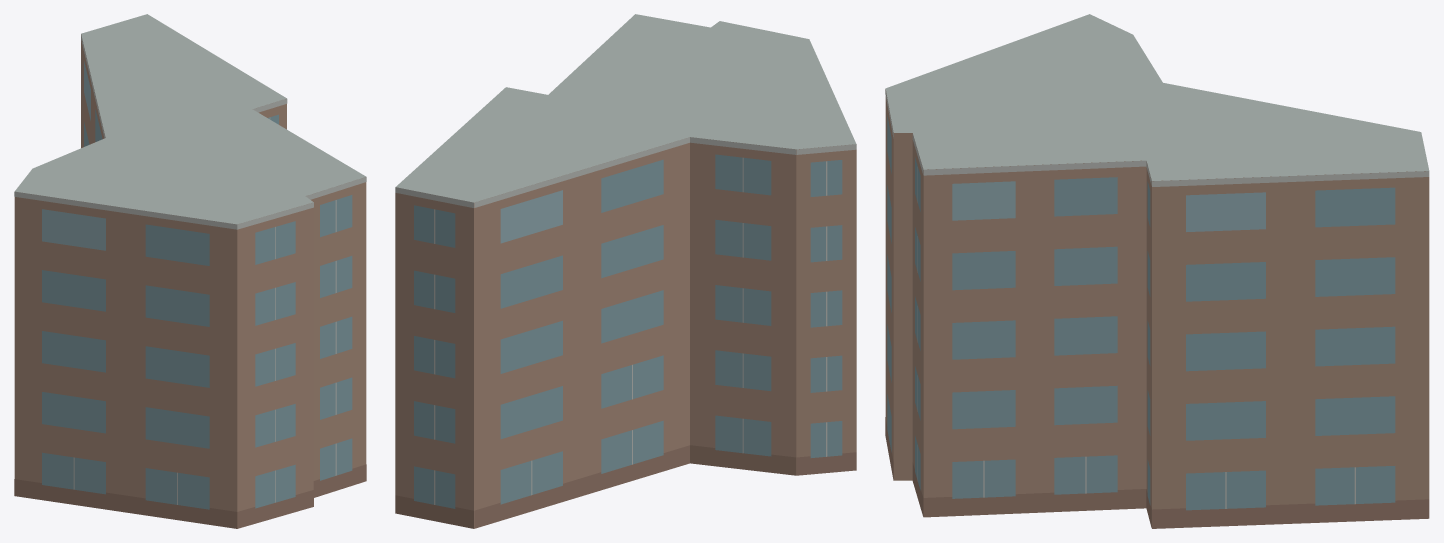
Rendered from survey-upis-33042313.glb.
3 renders of one model, left to right at view 1: azimuth 30°, elevation 25°; view 2: azimuth 150°, elevation 25°; view 3: azimuth 270°, elevation 25°, orthographic. The views are drawn at different scales.
Parts seen in each view (by area): view 1: survey-upis-33042313.tmp; view 2: survey-upis-33042313.tmp; view 3: survey-upis-33042313.tmp.
Part boxes in pixels (x1,y1,x2,y2): survey-upis-33042313.tmp: (14,14,366,528); survey-upis-33042313.tmp: (395,14,856,528); survey-upis-33042313.tmp: (885,14,1429,528).
Bounding box in the file's own units: 14.59 × 14.15 × 20.07.
